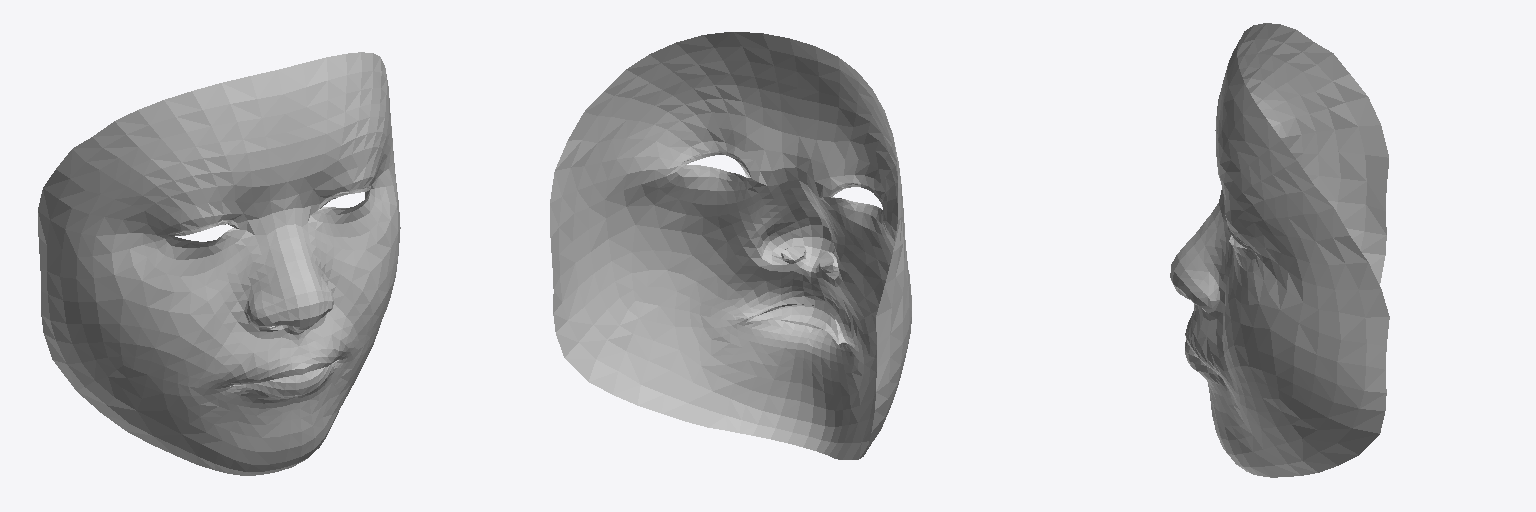
File: mouthShrugLower.obj
3 renders of one model, left to right at view 1: azimuth 30°, elevation 25°; view 2: azimuth 150°, elevation 25°; view 3: azimuth 270°, elevation 25°, orthographic.
Visible parts, largest first — view 1: default; view 2: default; view 3: default.
Boxes of the visible parts, box(x1,y1,x2,y2) form: default: box(38, 52, 400, 475); default: box(550, 32, 911, 459); default: box(1170, 23, 1389, 477).
Bounding box in the file's own units: 0.1624 × 0.1854 × 0.0913.